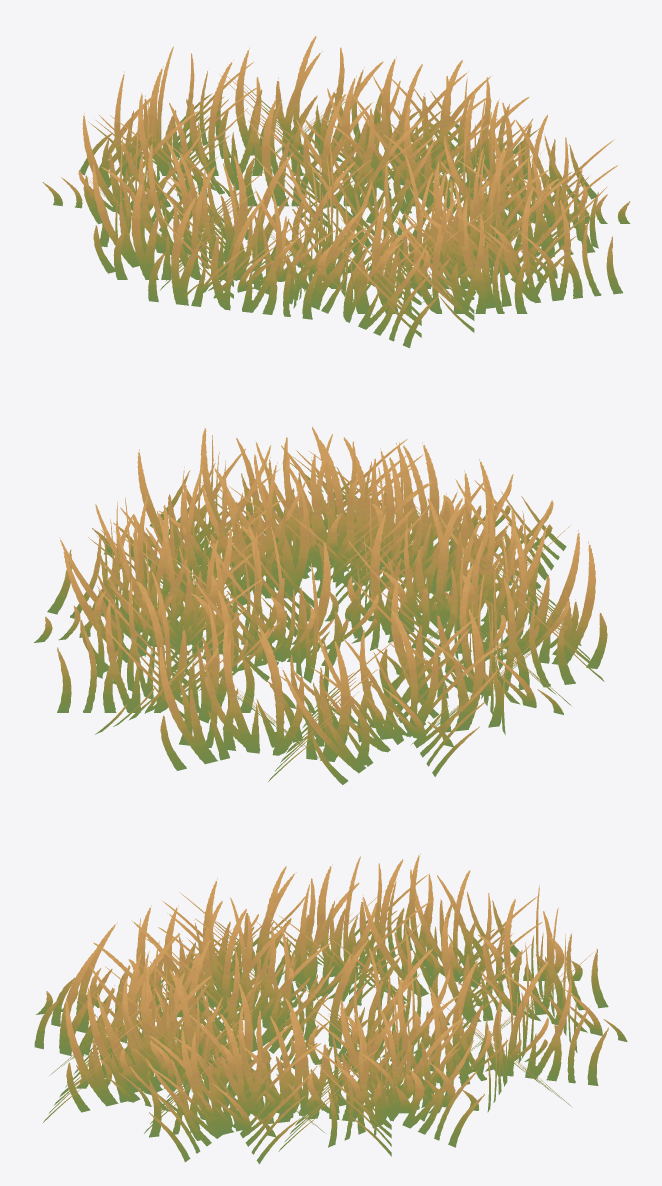
The model's file is V_Grass6.fbx.
The picture shows the model from 3 angles, top to bottom: view 1: azimuth 30°, elevation 25°; view 2: azimuth 150°, elevation 25°; view 3: azimuth 270°, elevation 25°; orthographic projection. The views are drawn at different scales.
Parts seen in each view (by area): view 1: TW101_grass11; view 2: TW101_grass11; view 3: TW101_grass11.
Part boxes in pixels (x1,y1,x2,y2): TW101_grass11: (42,36,630,348); TW101_grass11: (34,427,607,784); TW101_grass11: (34,853,627,1164).
Bounding box in the file's own units: 2.75 × 0.6175 × 2.92.
